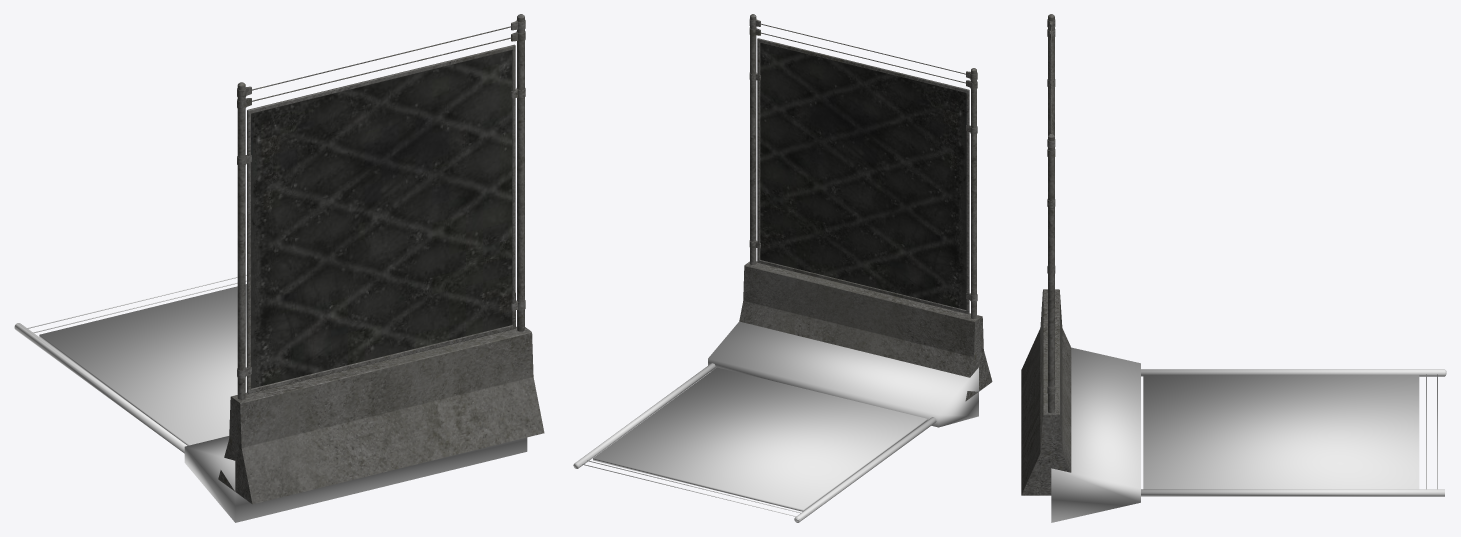
Rendered from SM_MetalFence_Basic.fbx.
3 views of the same model, side by side, from view 1: azimuth 30°, elevation 25°; view 2: azimuth 150°, elevation 25°; view 3: azimuth 270°, elevation 25° (orthographic). The views are drawn at different scales.
Visible parts, largest first — view 1: SM_MetalFence_Basic, SM_MetalFence_Basic_ConvexHulls; view 2: SM_MetalFence_Basic, SM_MetalFence_Basic_ConvexHulls; view 3: SM_MetalFence_Basic_ConvexHulls, SM_MetalFence_Basic.
Boxes of the visible parts, x1,y1,x2,y2 form: SM_MetalFence_Basic: (218, 14, 544, 504); SM_MetalFence_Basic_ConvexHulls: (14, 274, 527, 522); SM_MetalFence_Basic: (739, 14, 992, 401); SM_MetalFence_Basic_ConvexHulls: (573, 321, 978, 522); SM_MetalFence_Basic_ConvexHulls: (1051, 347, 1446, 522); SM_MetalFence_Basic: (1021, 14, 1071, 495).
Size of the model in its own units: 3 by 4.31 by 4.3.
